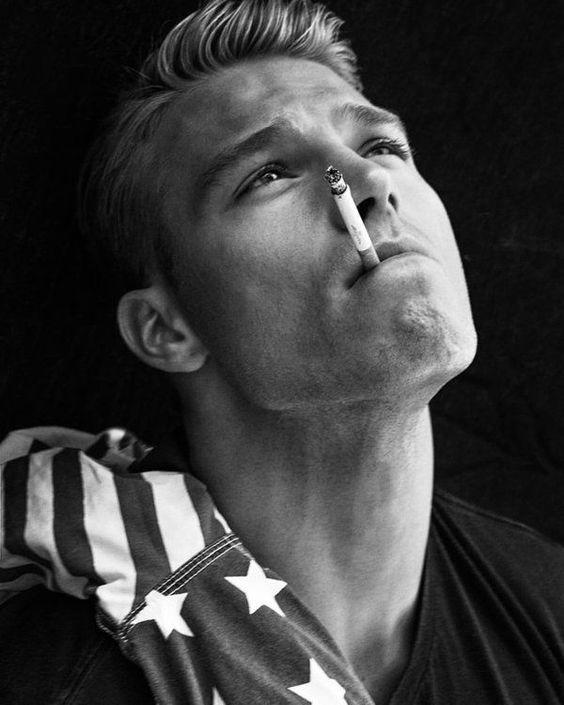cigarette: (324, 166, 381, 272)
